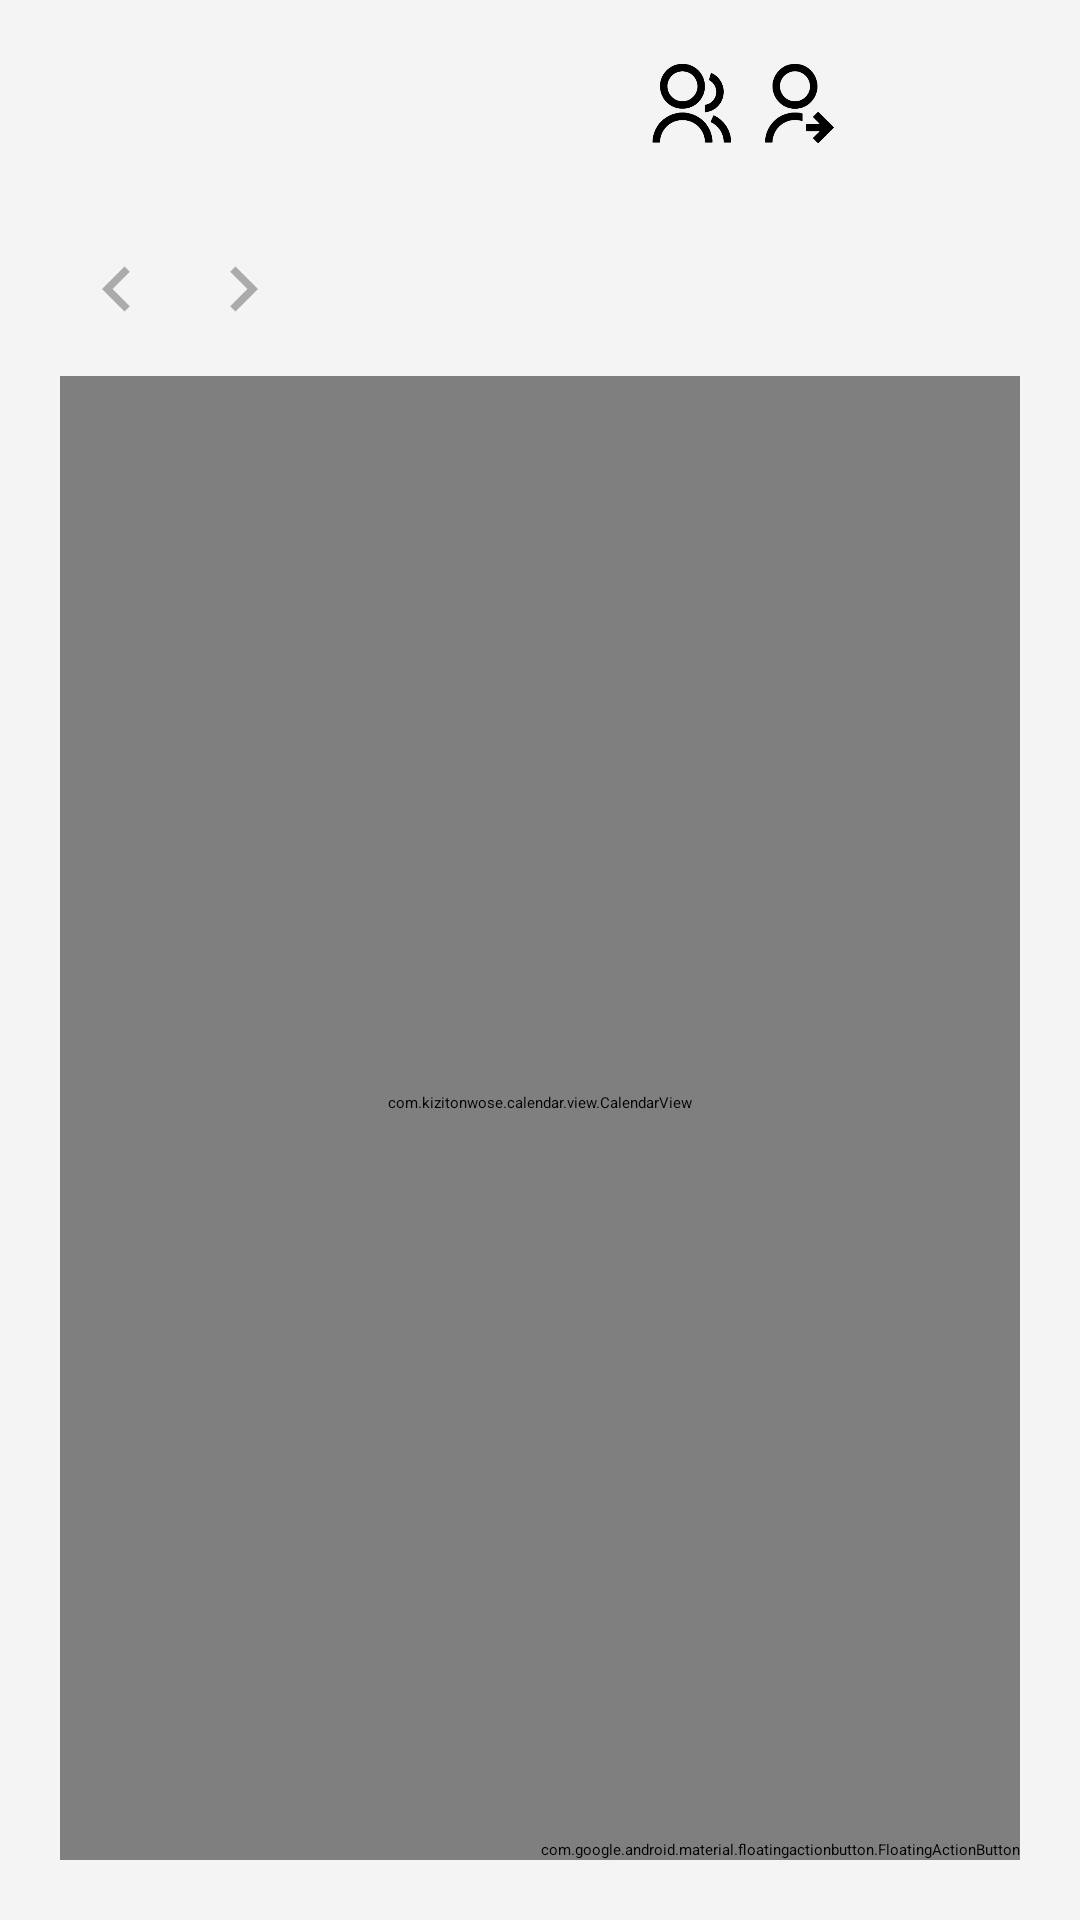

Icons on this 1080 x 1920 Android screen, each with the point to tap as (x=x, y=y):
friendlist: (x=691, y=103)
gonextmonth: (x=244, y=289)
gopreviousmonth: (x=116, y=289)
